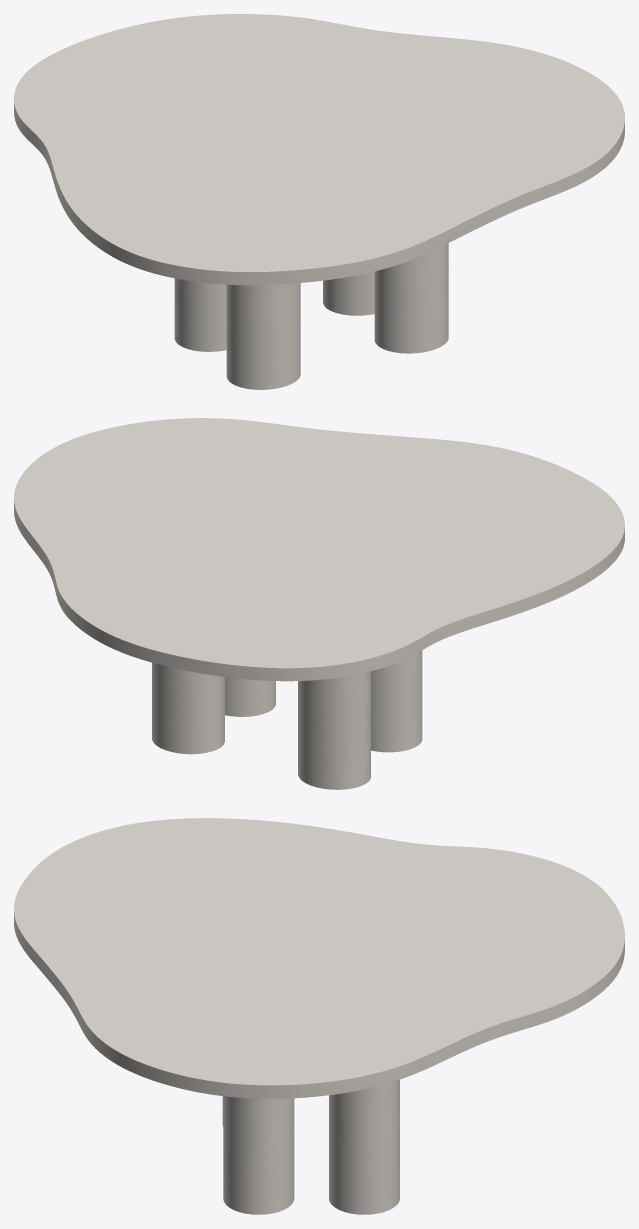
File: pearlwhite_topone_round_grove.glb
The picture shows the model from 3 angles, top to bottom: view 1: azimuth 30°, elevation 25°; view 2: azimuth 150°, elevation 25°; view 3: azimuth 270°, elevation 25°; orthographic projection. The views are drawn at different scales.
Visible parts, largest first — view 1: round_topone, grove; view 2: round_topone, grove; view 3: round_topone, grove.
Boxes of the visible parts, <box> form: round_topone: <box>14,14,624,285</box>; grove: <box>174,243,448,389</box>; round_topone: <box>14,418,624,681</box>; grove: <box>152,650,422,789</box>; round_topone: <box>14,818,624,1098</box>; grove: <box>222,1079,399,1214</box>.
Size of the model in its own units: 6.83 by 2.51 by 6.6.
Materials: 1 (1 with a texture image).
